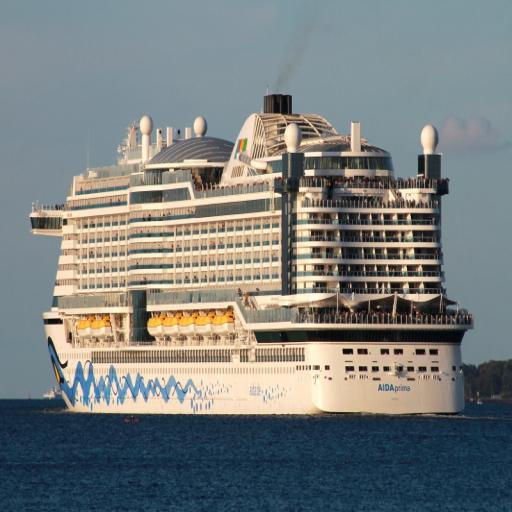cruises: (27, 85, 474, 423)
